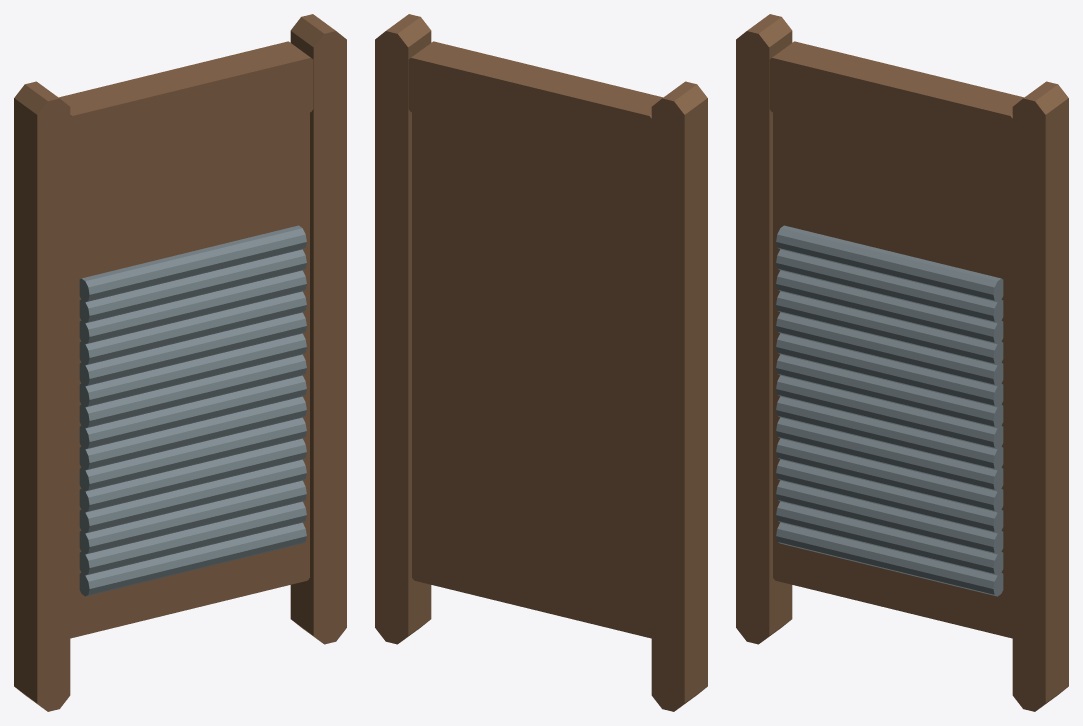
The model's file is W-07_washboard.glb.
The picture shows the model from 3 angles, left to right: view 1: azimuth 30°, elevation 25°; view 2: azimuth 150°, elevation 25°; view 3: azimuth 330°, elevation 25°; orthographic projection.
Visible parts, largest first — view 1: W-07_washboard; view 2: W-07_washboard; view 3: W-07_washboard.
Boxes of the visible parts, bbox=[...] form: W-07_washboard: bbox=[14, 14, 346, 711]; W-07_washboard: bbox=[375, 14, 707, 711]; W-07_washboard: bbox=[736, 14, 1068, 711].
Bounding box in the file's own units: 0.262 × 0.494 × 0.043.
